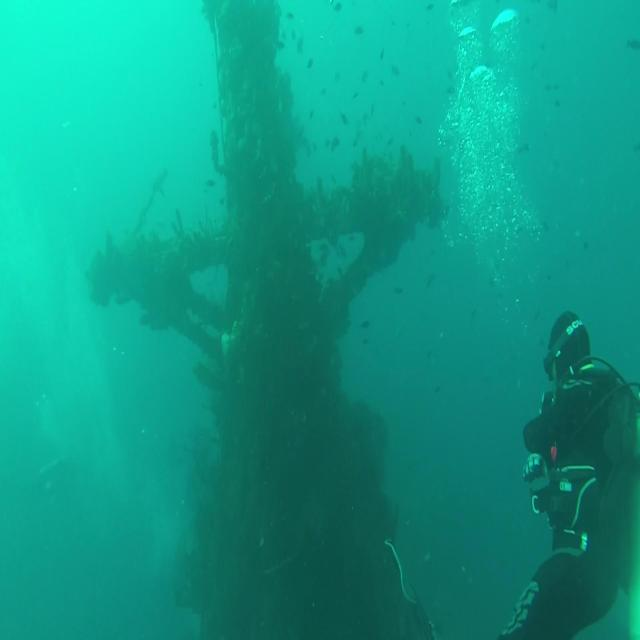human: (497, 309, 639, 638)
